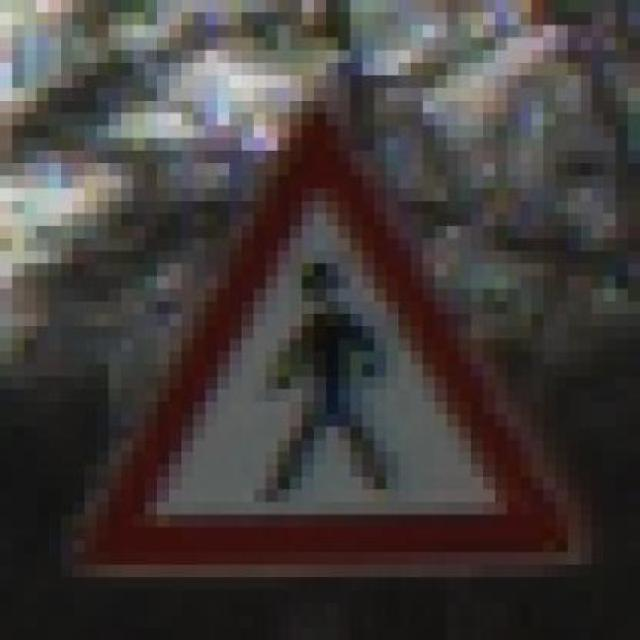Pedestrian Crossing: (72, 101, 605, 590)
